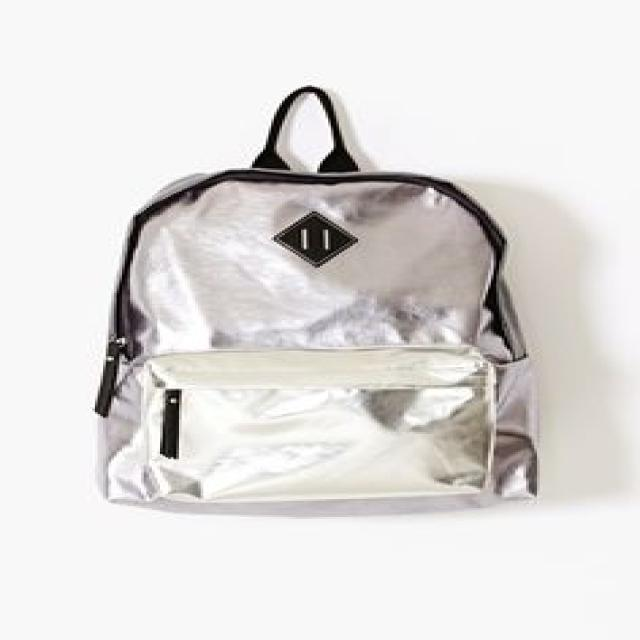backpack: (93, 86, 541, 514)
